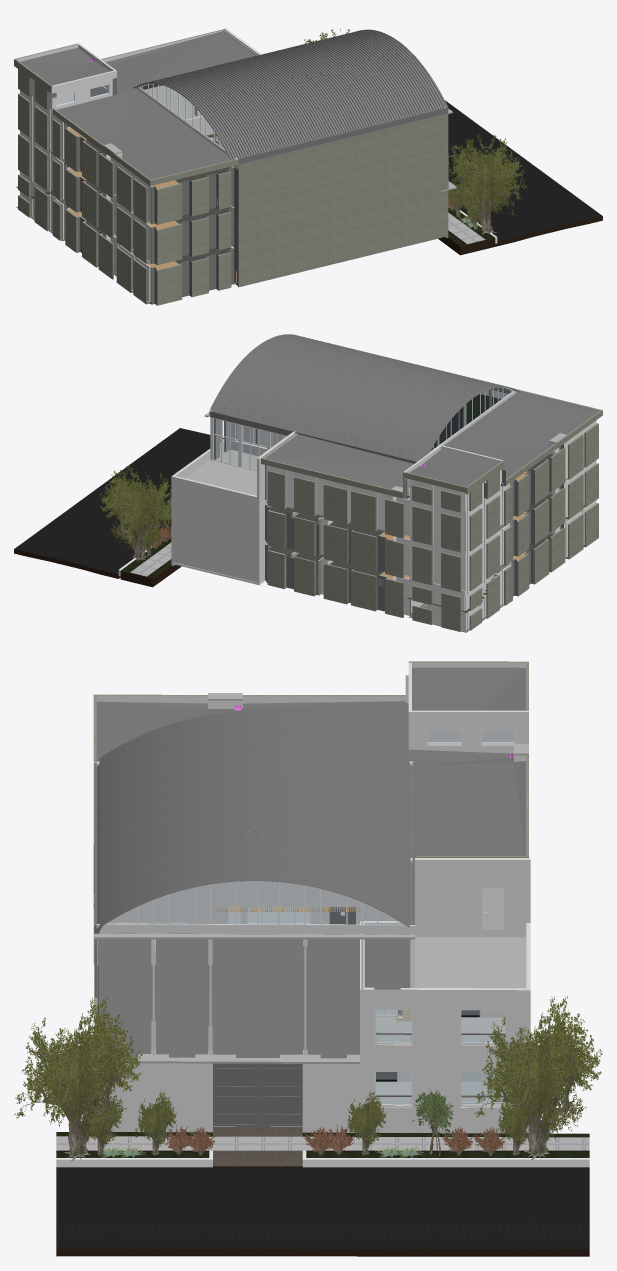
The model's file is victoria-college--vce-m3d-arq-arquitectura-v0.glb.
The picture shows the model from 3 angles, top to bottom: view 1: azimuth 30°, elevation 25°; view 2: azimuth 150°, elevation 25°; view 3: azimuth 270°, elevation 25°; orthographic projection. The views are drawn at different scales.
Visible parts, largest first — view 1: Basic Wall - BIM-Loading-Muro Colindante [360242], Basic Wall - BIM-Loading-Muro Colindante [511999], Floor - BIM-Loading-Relleno e Impermeabilizante [1693307], Basic Wall - BIM-Loading-Muro Colindante [509366], Floor - BIM-Loading-Calle [353500], BIM-Loading-RPC Tree - Deciduous - Honey Locust - 7.6 Meters, Floor - BIM-Loading-Relleno e Impermeabilizante [1713043], Floor - BIM-Loading-Relleno e Impermeabilizante [1701444], BIM-Loading-Canal Arcotecho - BLG-Canal Arcotecho [837646], BIM-Loading-Lamina - UB305x165x40 [1496906], BIM-Loading-Lamina - UB305x165x40 [1496986], BIM-Loading-Lamina - UB305x165x40 [1497036] (+46 smaller); view 2: Floor - BIM-Loading-Calle [353500], Floor - BIM-Loading-Relleno e Impermeabilizante [1693307], Floor - BIM-Loading-Relleno e Impermeabilizante [1713043], BIM-Loading-RPC Tree - Deciduous - Honey Locust - 7.6 Meters, Basic Wall - BIM-Loading-Muro Existente [600963], Basic Wall - BIM-Loading-Muro Existente [958067], Floor - BIM-Loading-Firme 8cm [2434540], Floor - BIM-Loading-Relleno e Impermeabilizante [1701444], BIM-Loading-Lamina - UB305x165x40 [1496906], BIM-Loading-Lamina - UB305x165x40 [1496986], BIM-Loading-Lamina - UB305x165x40 [1497130], BIM-Loading-Lamina - UB305x165x40 [1497126] (+60 smaller); view 3: Floor - BIM-Loading-Calle [353500], BIM-Loading-RPC Tree - Deciduous - Honey Locust - 7.6 Meters (×2), Floor - BIM-Loading-Relleno e Impermeabilizante [1713043], Basic Wall - BIM-Loading-Muro Existente [1178696], Floor - BIM-Loading-Relleno e Impermeabilizante [1693307], BIM-Loading-RPC Tree - Deciduous - Gray Birch - 3.1 Meters [ (×5), Basic Wall - BIM-Loading-Muro Existente [640668], Floor - BIM-Loading-Firme 8cm [2434540], BIM-Loading-Puerta de Acceso - PTA-01-Puerta de Acceso [1707, Basic Wall - BIM-Loading-Muro Fachada [1666646], Floor - BIM-Loading-Banqueta [359736], BIM-Loading-Controlador Solar - CS-6.46x2.00 [1671164] (+55 smaller).
Part boxes in pixels (x1=…): Basic Wall - BIM-Loading-Muro Colindante [360242]: x1=237, y1=191, x2=446, y2=287; Basic Wall - BIM-Loading-Muro Colindante [511999]: x1=238, y1=113, x2=448, y2=204; Floor - BIM-Loading-Relleno e Impermeabilizante [1693307]: x1=57, y1=89, x2=232, y2=179; Basic Wall - BIM-Loading-Muro Colindante [509366]: x1=238, y1=154, x2=448, y2=240; Floor - BIM-Loading-Calle [353500]: x1=445, y1=100, x2=602, y2=246; BIM-Loading-RPC Tree - Deciduous - Honey Locust - 7.6 Meters: x1=448, y1=135, x2=527, y2=234; Floor - BIM-Loading-Relleno e Impermeabilizante [1713043]: x1=105, y1=31, x2=255, y2=94; Floor - BIM-Loading-Relleno e Impermeabilizante [1701444]: x1=20, y1=47, x2=109, y2=85; BIM-Loading-Canal Arcotecho - BLG-Canal Arcotecho [837646]: x1=237, y1=107, x2=448, y2=164; BIM-Loading-Lamina - UB305x165x40 [1496906]: x1=133, y1=79, x2=242, y2=159; BIM-Loading-Lamina - UB305x165x40 [1496986]: x1=147, y1=76, x2=255, y2=156; BIM-Loading-Lamina - UB305x165x40 [1497036]: x1=170, y1=73, x2=268, y2=153; Floor - BIM-Loading-Calle [353500]: x1=14, y1=428, x2=223, y2=578; Floor - BIM-Loading-Relleno e Impermeabilizante [1693307]: x1=444, y1=393, x2=596, y2=486; Floor - BIM-Loading-Relleno e Impermeabilizante [1713043]: x1=264, y1=434, x2=413, y2=489; BIM-Loading-RPC Tree - Deciduous - Honey Locust - 7.6 Meters: x1=100, y1=464, x2=171, y2=561; Basic Wall - BIM-Loading-Muro Existente [600963]: x1=171, y1=488, x2=260, y2=546; Basic Wall - BIM-Loading-Muro Existente [958067]: x1=173, y1=525, x2=256, y2=582; Floor - BIM-Loading-Firme 8cm [2434540]: x1=185, y1=449, x2=258, y2=495; Floor - BIM-Loading-Relleno e Impermeabilizante [1701444]: x1=410, y1=449, x2=498, y2=486; BIM-Loading-Lamina - UB305x165x40 [1496906]: x1=412, y1=383, x2=519, y2=460; BIM-Loading-Lamina - UB305x165x40 [1496986]: x1=399, y1=380, x2=505, y2=459; BIM-Loading-Lamina - UB305x165x40 [1497130]: x1=209, y1=334, x2=305, y2=413; BIM-Loading-Lamina - UB305x165x40 [1497126]: x1=260, y1=346, x2=355, y2=425; Floor - BIM-Loading-Calle [353500]: x1=56, y1=1167, x2=589, y2=1256; BIM-Loading-RPC Tree - Deciduous - Honey Locust - 7.6 Meters (×2): x1=14, y1=996, x2=602, y2=1161; Floor - BIM-Loading-Relleno e Impermeabilizante [1713043]: x1=408, y1=749, x2=525, y2=857; Basic Wall - BIM-Loading-Muro Existente [1178696]: x1=410, y1=858, x2=530, y2=937; Floor - BIM-Loading-Relleno e Impermeabilizante [1693307]: x1=96, y1=701, x2=408, y2=761; BIM-Loading-RPC Tree - Deciduous - Gray Birch - 3.1 Meters [ (×5): x1=84, y1=1088, x2=532, y2=1155; Basic Wall - BIM-Loading-Muro Existente [640668]: x1=364, y1=1008, x2=526, y2=1066; Floor - BIM-Loading-Firme 8cm [2434540]: x1=415, y1=937, x2=526, y2=988; BIM-Loading-Puerta de Acceso - PTA-01-Puerta de Acceso [1707: x1=213, y1=1063, x2=302, y2=1126; Basic Wall - BIM-Loading-Muro Fachada [1666646]: x1=97, y1=1063, x2=211, y2=1132; Floor - BIM-Loading-Banqueta [359736]: x1=56, y1=1136, x2=589, y2=1151; BIM-Loading-Controlador Solar - CS-6.46x2.00 [1671164]: x1=236, y1=939, x2=279, y2=1057.
Size of the model in its own units: 36.89 by 15.36 by 26.87.
98 materials, 30 textured.
